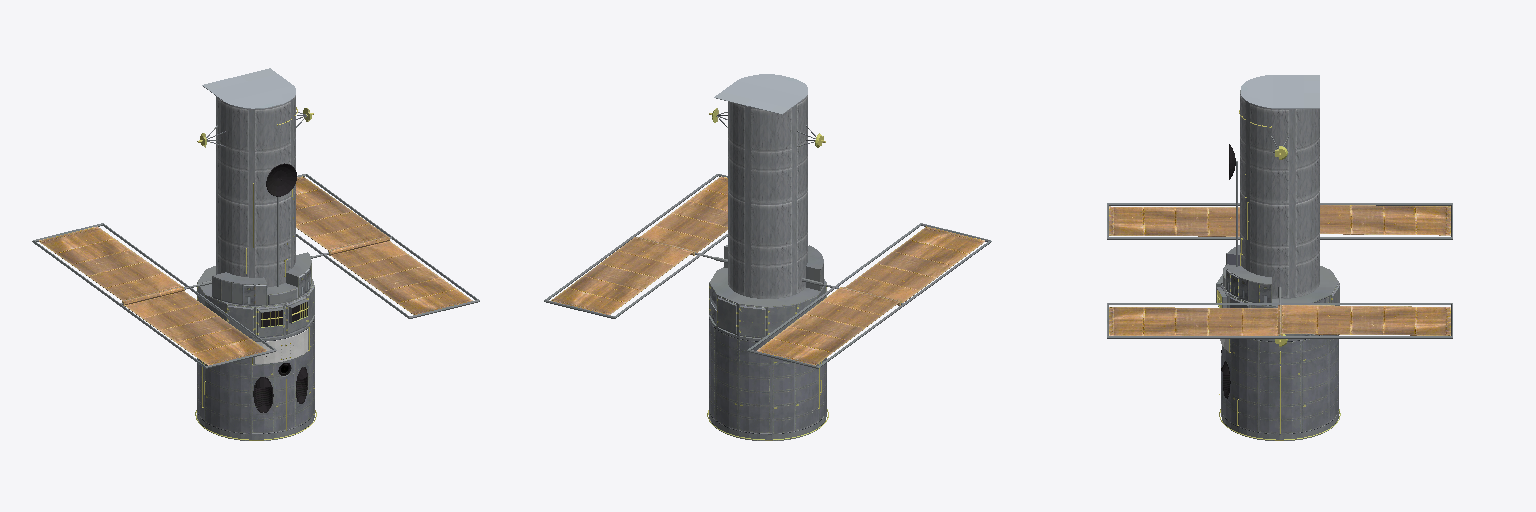
3 views of the same model, side by side, from view 1: azimuth 30°, elevation 25°; view 2: azimuth 150°, elevation 25°; view 3: azimuth 270°, elevation 25° (orthographic).
Visible parts, largest first — view 1: obj1, obj4, obj3, obj2, obj5; view 2: obj1, obj4, obj3; view 3: obj1, obj4, obj3.
Boxes of the visible parts, box(x1,y1,x2,y2) form: obj1: box(32, 68, 479, 440); obj4: box(39, 176, 472, 365); obj3: box(216, 95, 295, 287); obj2: box(214, 163, 307, 426); obj5: box(255, 329, 307, 363); obj1: box(544, 74, 991, 440); obj4: box(551, 176, 984, 365); obj3: box(728, 95, 807, 298); obj1: box(1107, 75, 1452, 440); obj4: box(1109, 205, 1450, 335); obj3: box(1240, 94, 1319, 298).
Bounding box in the file's own units: 458 × 525 × 501.
5 materials, 5 textured.